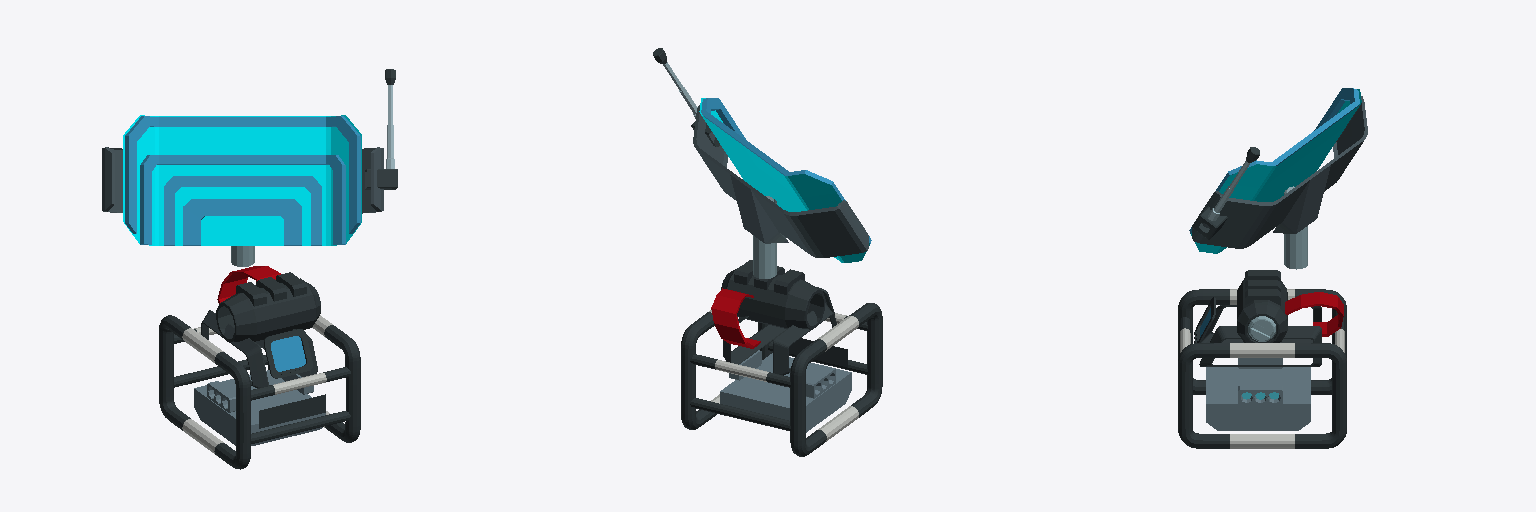
The picture shows the model from 3 angles: view 1: azimuth 30°, elevation 25°; view 2: azimuth 150°, elevation 25°; view 3: azimuth 270°, elevation 25°; orthographic projection.
Visible parts, largest first — view 1: fant_robotdetector_Circle; view 2: fant_robotdetector_Circle; view 3: fant_robotdetector_Circle.
Part boxes in pixels (x1,y1,x2,y2): fant_robotdetector_Circle: (102,69,397,469); fant_robotdetector_Circle: (653,48,882,456); fant_robotdetector_Circle: (1178,88,1367,448).
Bounding box in the file's own units: 5.21 × 6.55 × 3.62.
Materials: 1 (1 with a texture image).